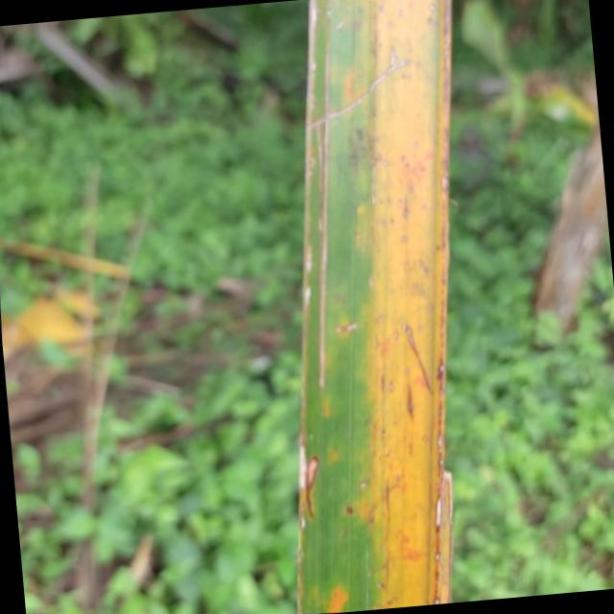Megnesium: (298, 0, 444, 614)
